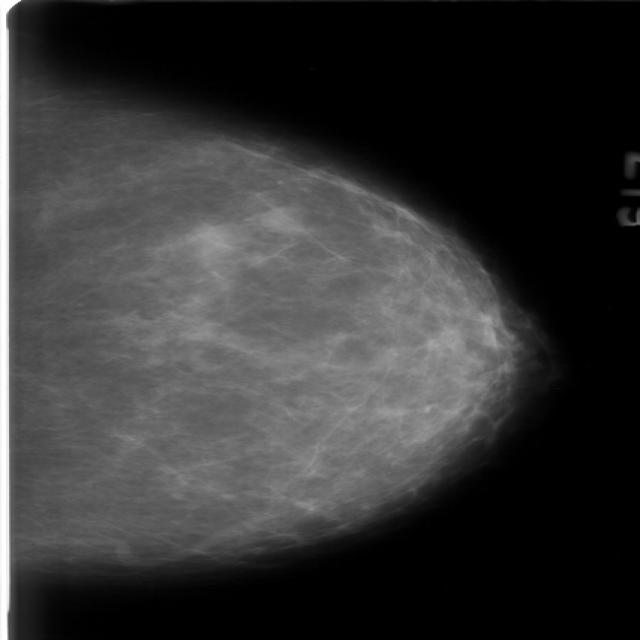tumour: (256, 206, 303, 233)
